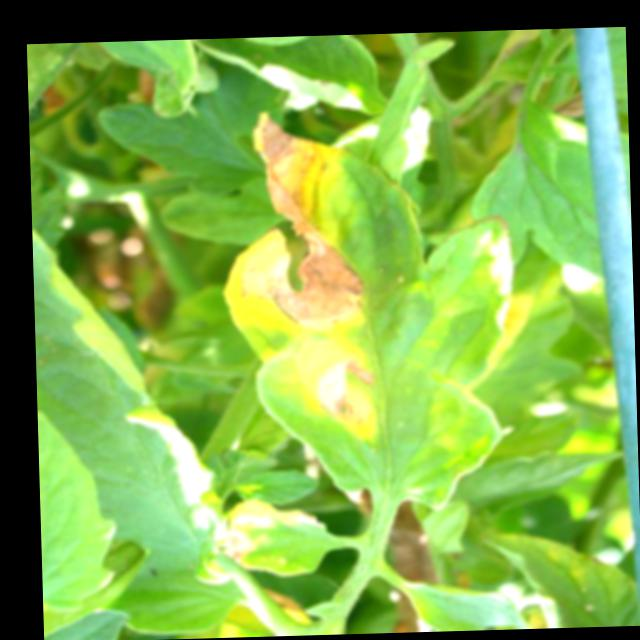Early_blight: (220, 109, 375, 340), (223, 495, 327, 565), (314, 354, 384, 445)
